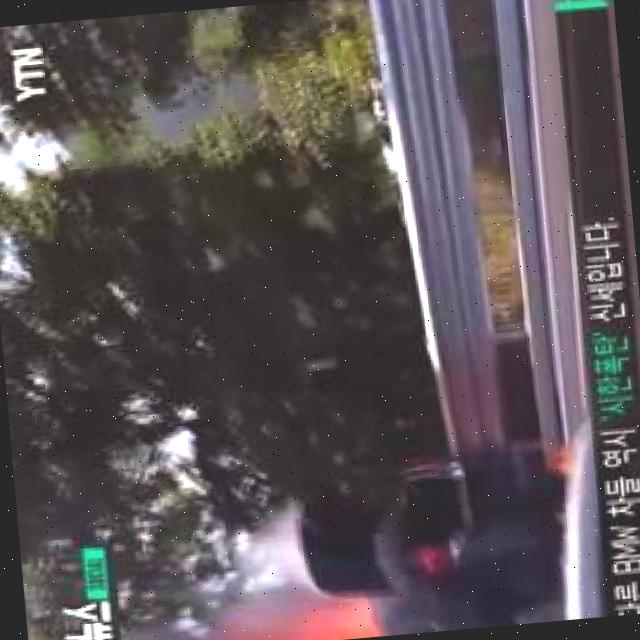fire: (257, 591, 456, 640)
